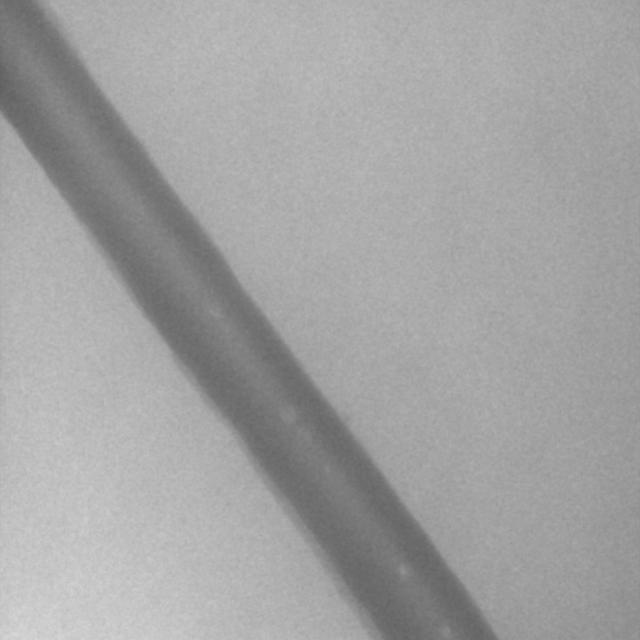air hole: (396, 562, 412, 577)
